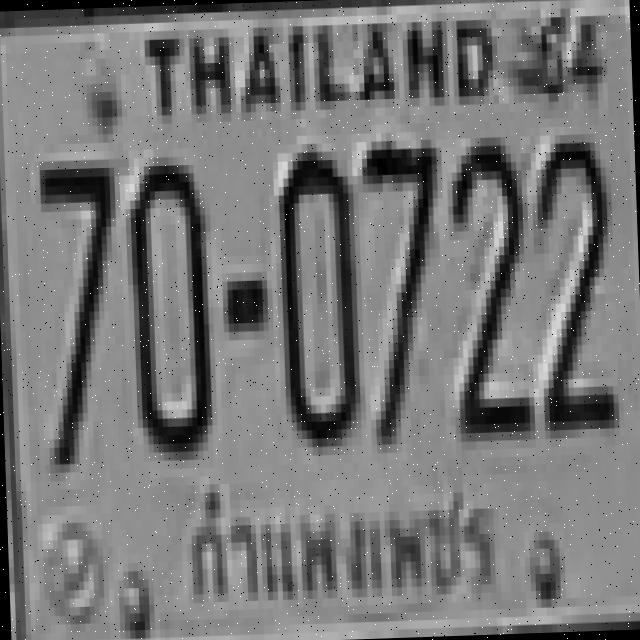0: (122, 152, 208, 448), (272, 142, 356, 439)
2: (530, 133, 614, 430), (448, 132, 528, 437)
7: (34, 150, 119, 464), (358, 135, 444, 440)
KamphaengPhet: (172, 461, 512, 619)
